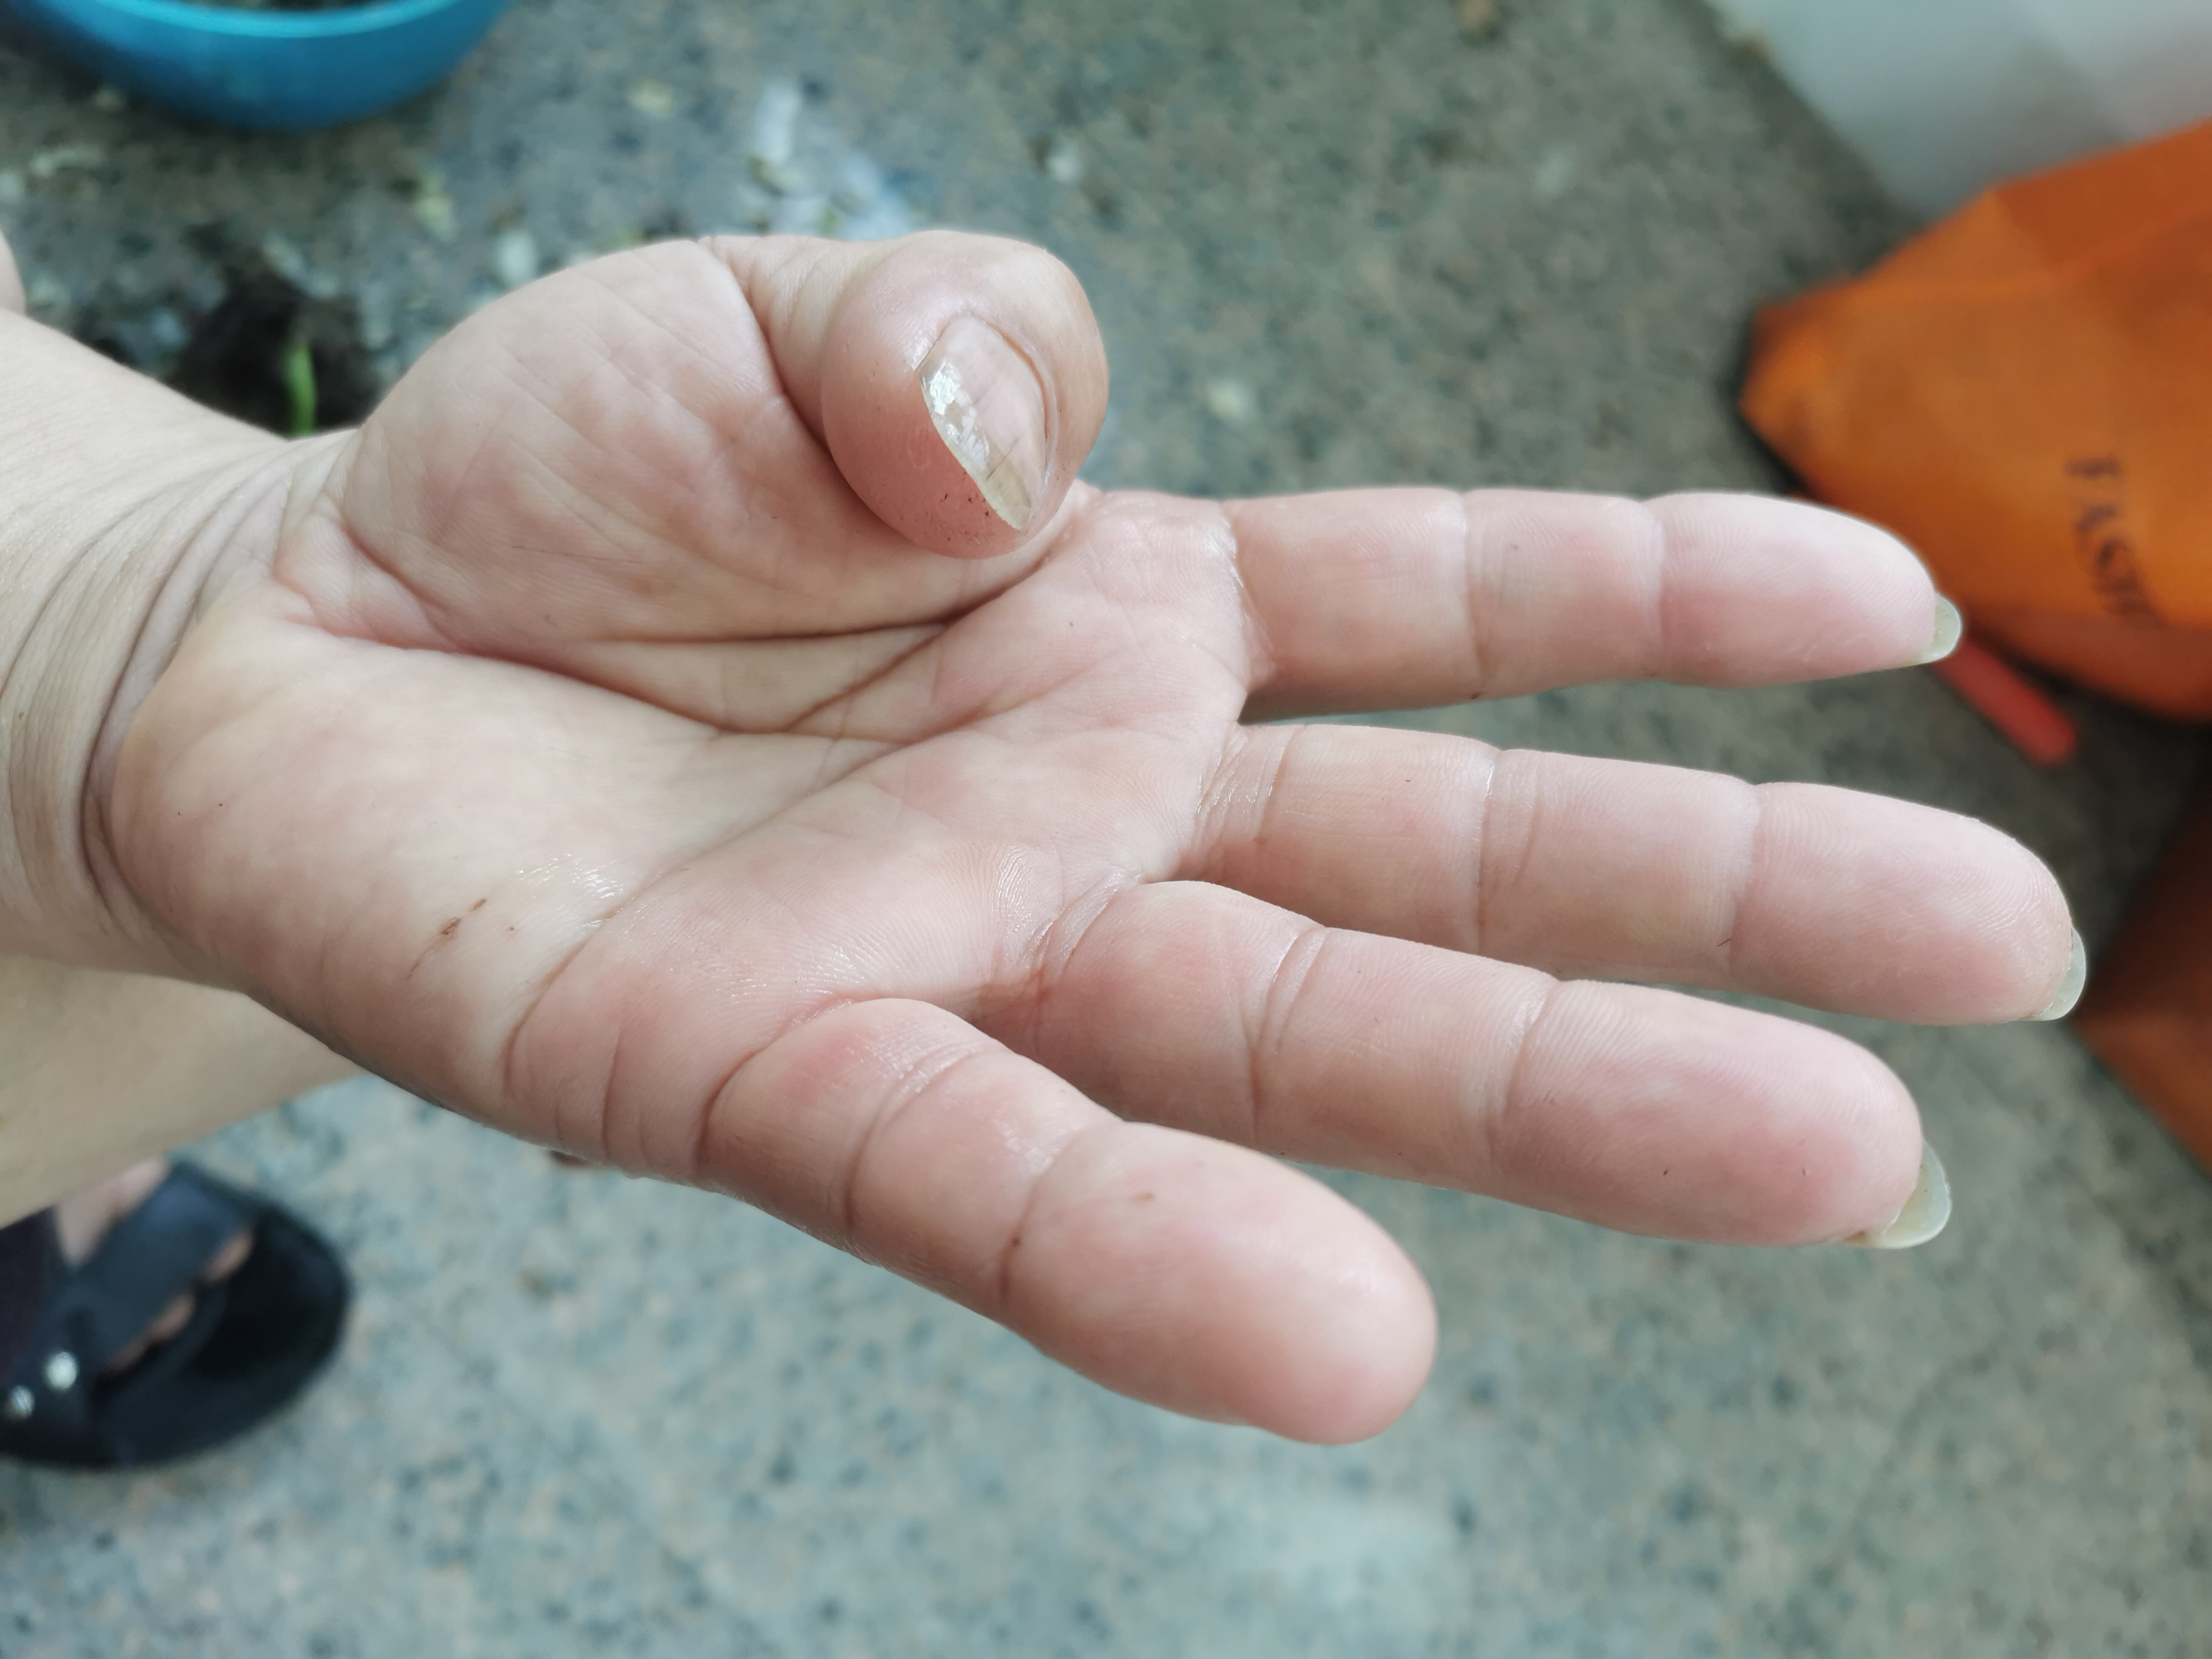right: (70, 218, 2135, 1452)
